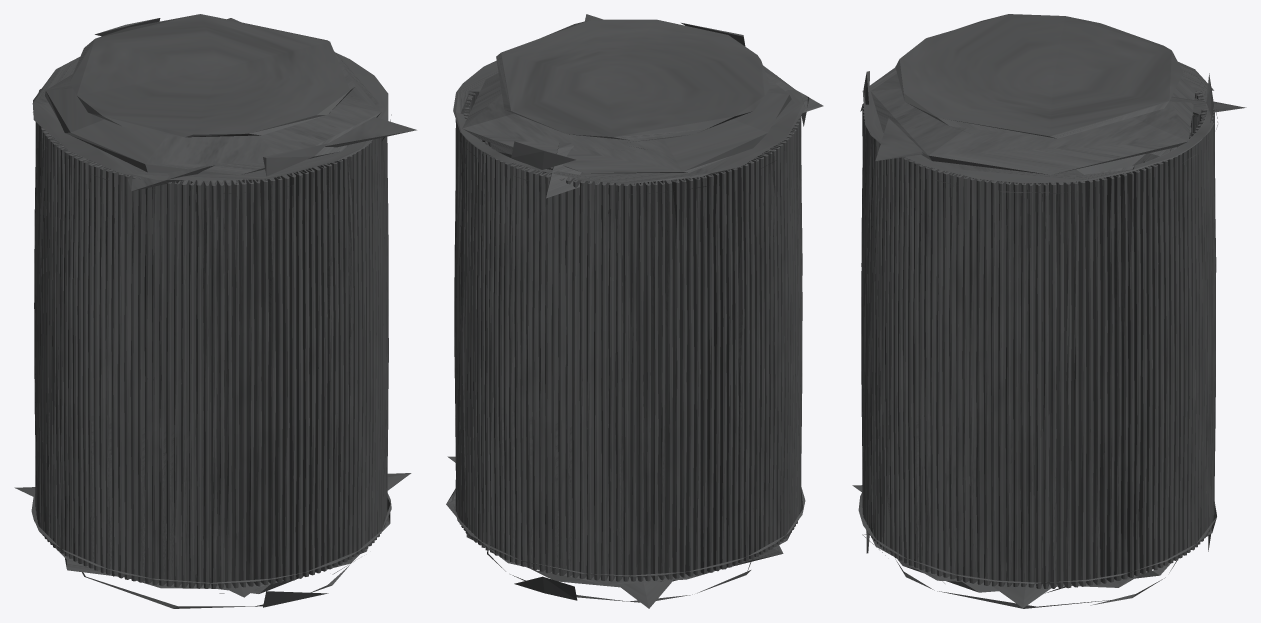
File: consumable_air_filter_cylindrical_a01.glb
3 renders of one model, left to right at view 1: azimuth 30°, elevation 25°; view 2: azimuth 150°, elevation 25°; view 3: azimuth 270°, elevation 25°, orthographic.
Visible parts, largest first — view 1: geometry_0; view 2: geometry_0; view 3: geometry_0.
Part boxes in pixels (left/top/right/bottom): geometry_0: left=14, top=14, right=416, bottom=608; geometry_0: left=446, top=14, right=823, bottom=608; geometry_0: left=852, top=14, right=1246, bottom=608.
Size of the model in its own units: 0.3219 by 0.42 by 0.3152.
1 material, 1 textured.
